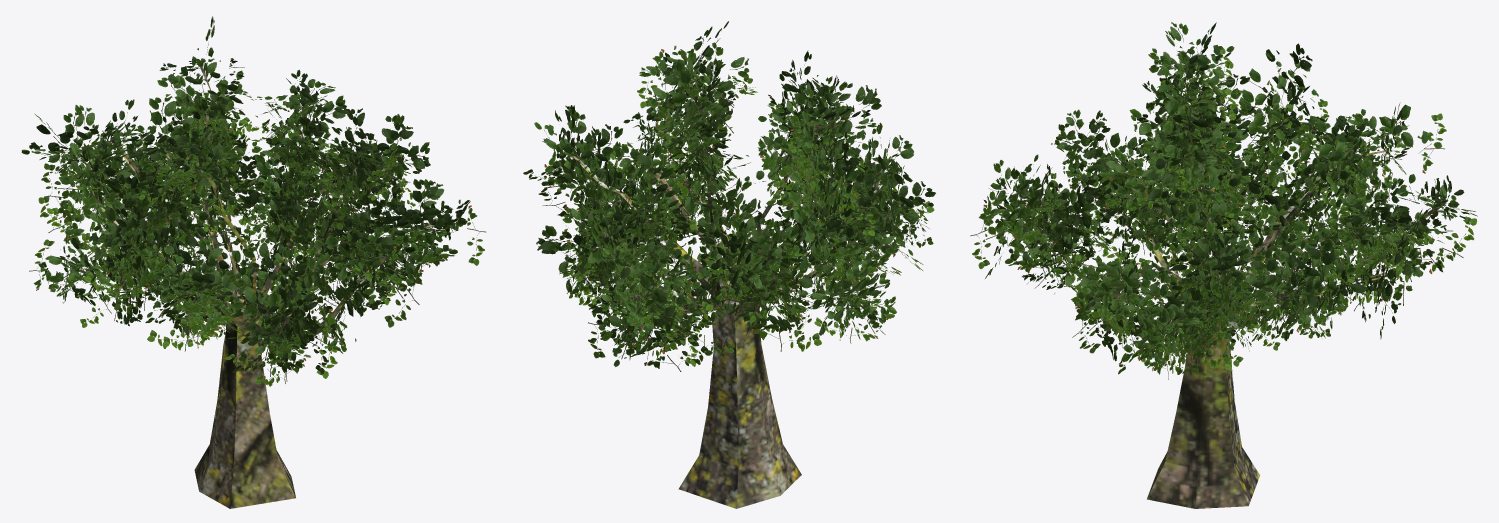
The model's file is ficus-tree.glb.
3 renders of one model, left to right at view 1: azimuth 30°, elevation 25°; view 2: azimuth 150°, elevation 25°; view 3: azimuth 270°, elevation 25°, orthographic. The views are drawn at different scales.
Parts seen in each view (by area): view 1: leaves, trunk; view 2: leaves, trunk; view 3: leaves, trunk.
Part boxes in pixels (box(x1,y1,x2,y2)): leaves: box(21, 16, 486, 386); trunk: box(80, 66, 437, 508); leaves: box(523, 21, 935, 371); trunk: box(572, 103, 892, 508); leaves: box(970, 22, 1477, 379); trunk: box(1032, 75, 1445, 508).
Size of the model in its own units: 9.08 by 9.68 by 10.03.
2 materials, 2 textured.
